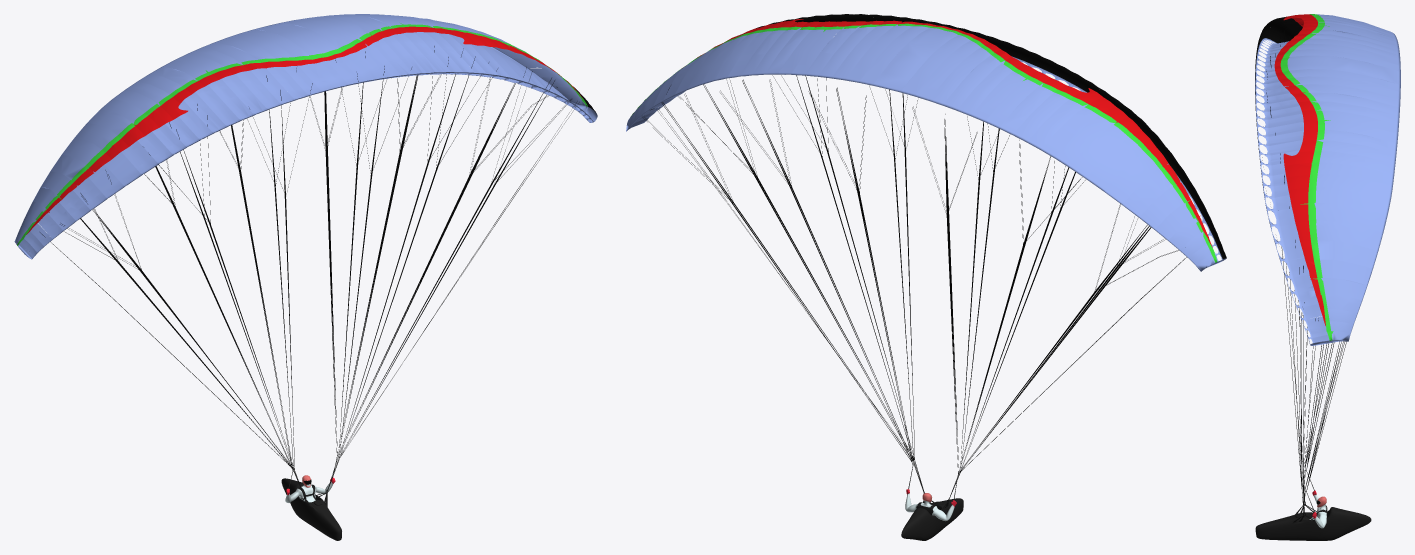
The model's file is glide_model_sol.glb.
3 renders of one model, left to right at view 1: azimuth 30°, elevation 25°; view 2: azimuth 150°, elevation 25°; view 3: azimuth 270°, elevation 25°, orthographic. The views are drawn at different scales.
Visible parts, largest first — view 1: SeleteELinhas.001; view 2: SeleteELinhas.001; view 3: SeleteELinhas.001.
Part boxes in pixels (x1,y1,x2,y2): SeleteELinhas.001: (14,14,597,540); SeleteELinhas.001: (626,14,1226,540); SeleteELinhas.001: (1255,14,1400,540).
Size of the model in its own units: 4.24 by 3.4 by 0.9412.
